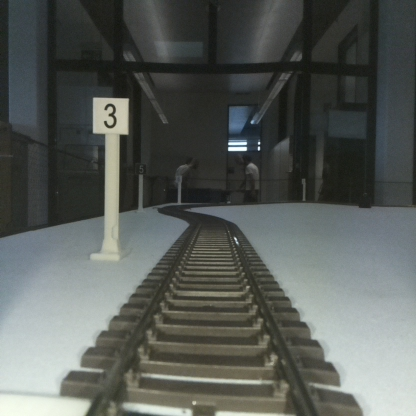black-info-5: (135, 163, 146, 211)
white-info-3: (93, 98, 128, 259)
